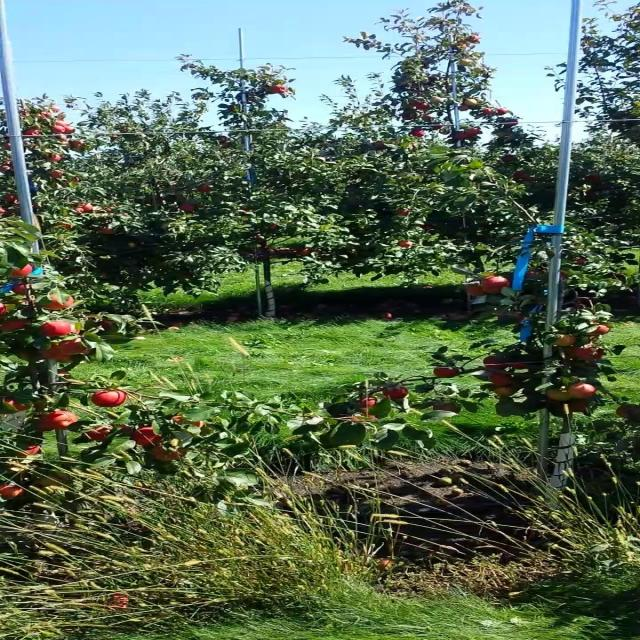apple: (134, 428, 164, 448), (92, 392, 128, 408), (42, 296, 76, 312), (483, 276, 512, 294), (148, 448, 187, 461), (568, 384, 597, 400), (49, 412, 78, 428), (348, 408, 377, 424), (63, 340, 91, 356), (170, 416, 206, 428), (42, 348, 71, 362), (483, 356, 507, 372), (575, 348, 604, 361), (49, 348, 71, 364), (42, 324, 69, 337), (547, 388, 572, 402), (433, 368, 462, 380), (383, 388, 411, 400), (13, 264, 36, 278), (6, 400, 32, 412), (92, 428, 114, 441), (589, 324, 612, 336), (6, 320, 28, 332), (554, 336, 576, 348), (568, 400, 590, 412), (6, 488, 27, 500), (468, 284, 487, 296), (490, 376, 512, 386), (20, 448, 43, 456), (13, 284, 28, 296), (42, 420, 57, 432), (63, 324, 78, 336), (497, 388, 519, 396), (618, 408, 633, 419), (99, 320, 114, 331), (440, 404, 460, 412), (511, 360, 528, 369), (525, 272, 542, 280), (362, 400, 377, 408), (511, 364, 526, 369), (575, 260, 590, 265), (120, 428, 133, 433)
